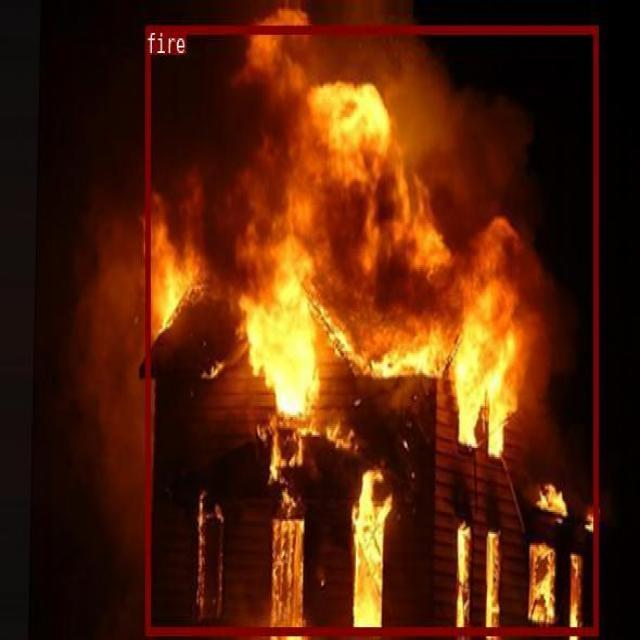fire: (145, 25, 598, 634)
